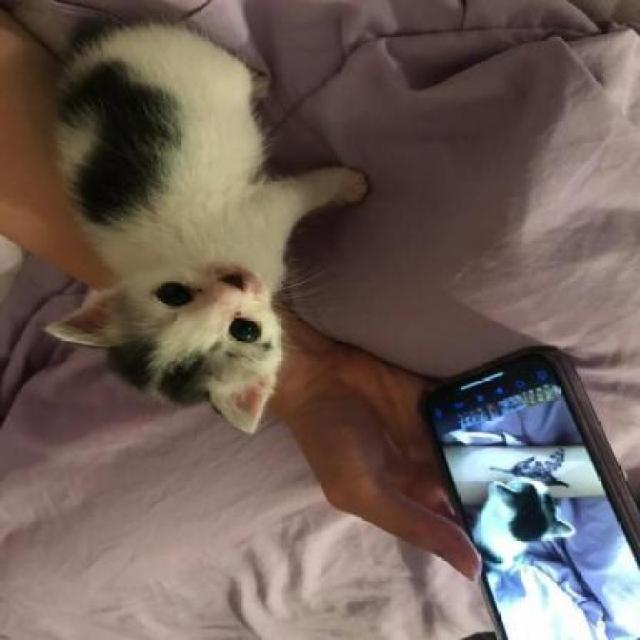cat: (30, 22, 378, 427)
